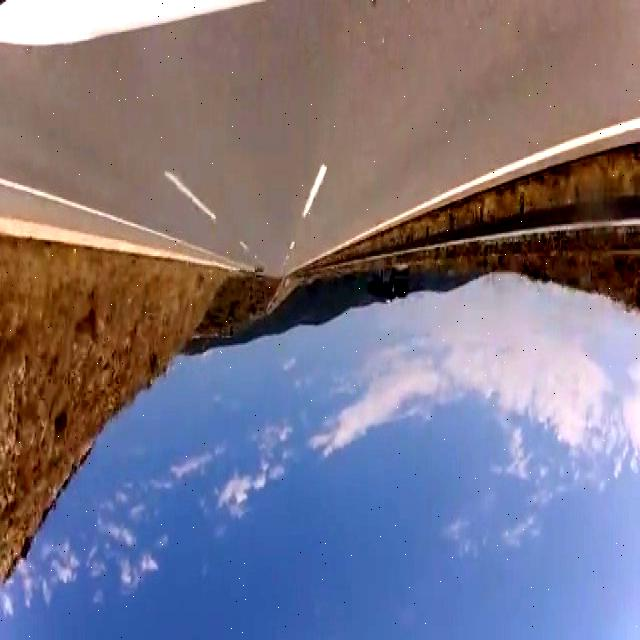lane: (306, 117, 640, 263), (164, 172, 216, 219), (303, 166, 328, 218)
road: (1, 4, 640, 277)
